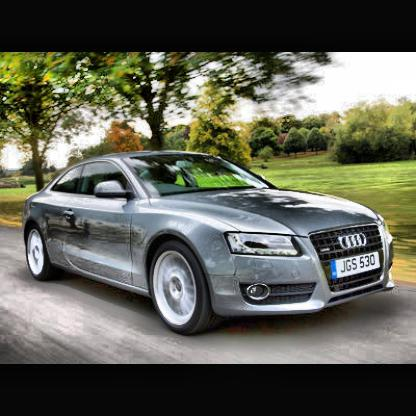Audi A5 Coupe 2012: (23, 152, 396, 338)
